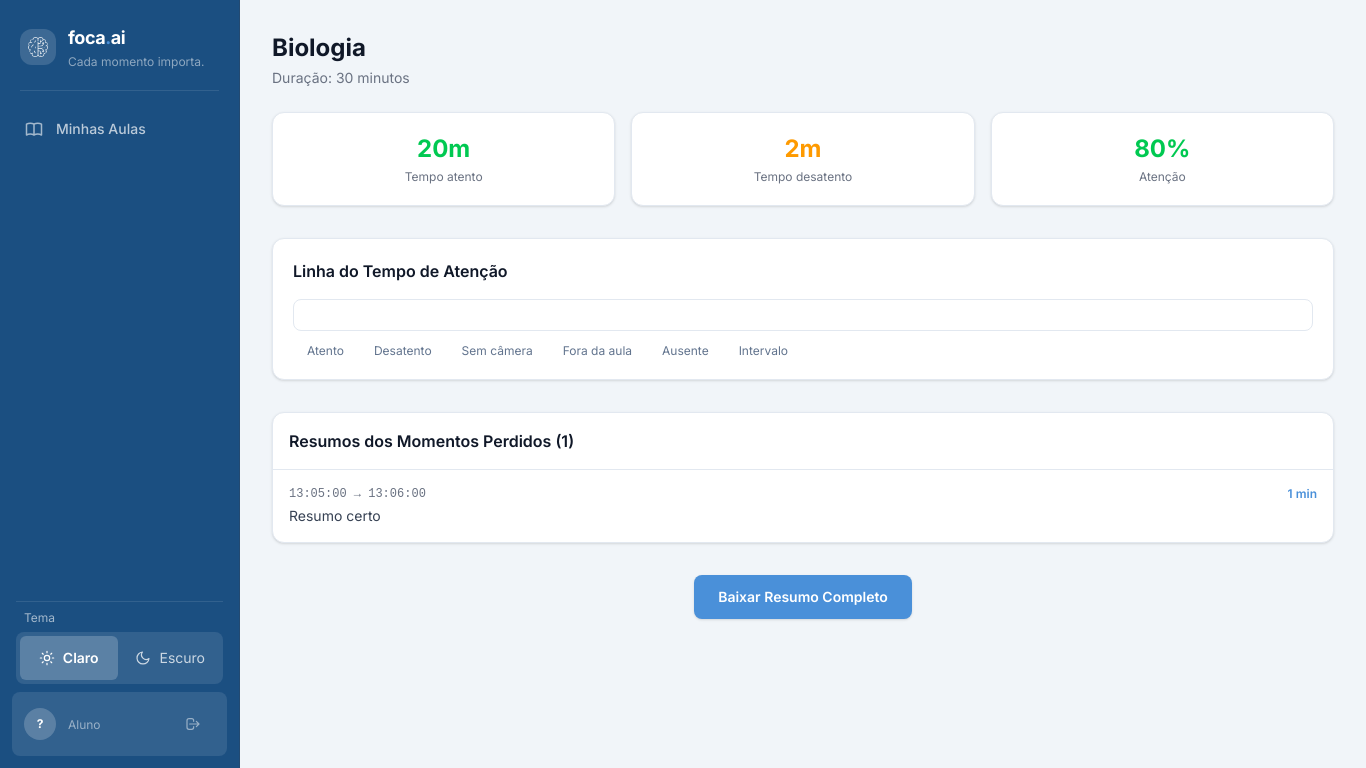
Test: Revisão da aula (#5) › CA9 (F22): fusos formatados diferentes ("+00:00" × "Z") não atrapalham — o casamento é pelo id (#40)
Click the button named "Desatento: 1 min — abrir resumo" at coordinates (486, 322), box [464, 300, 508, 344]
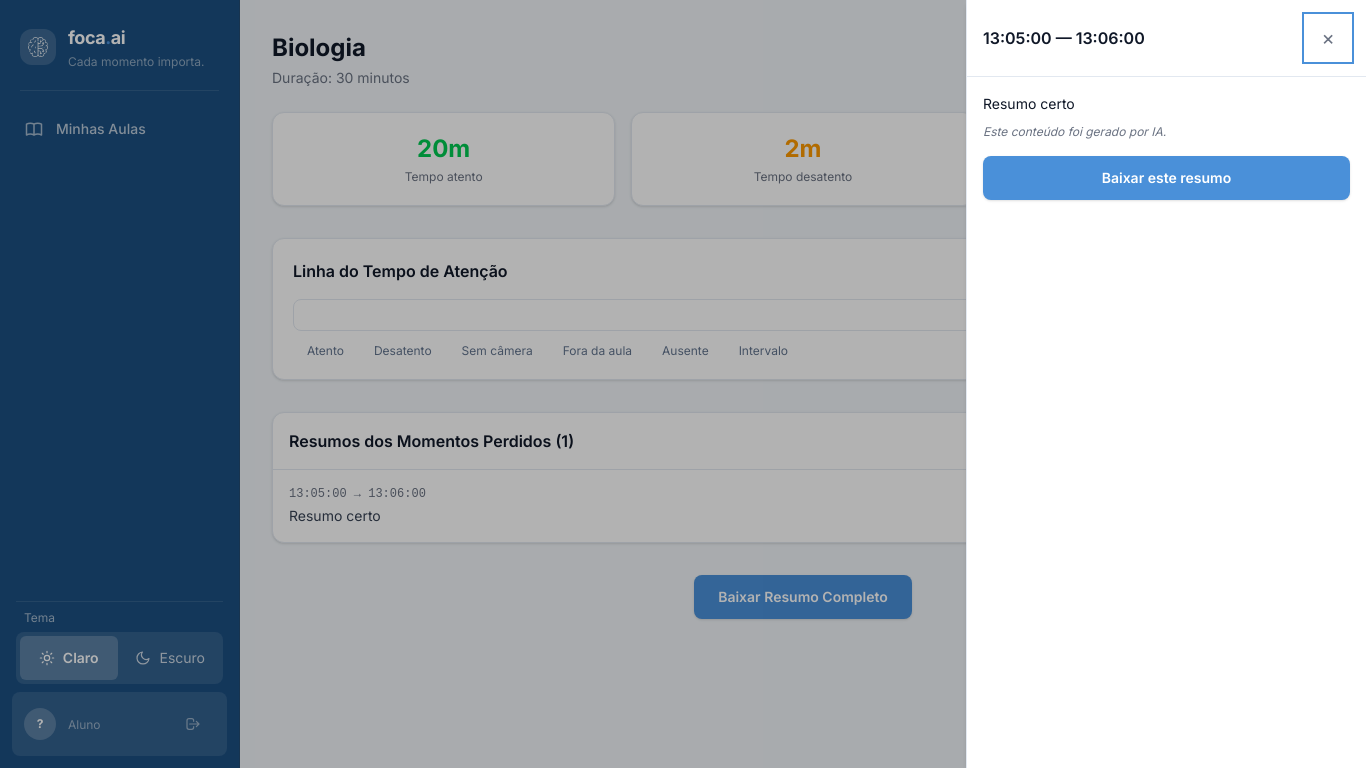
Now the dialog shows "Resumo certo", box [983, 95, 1075, 112]
